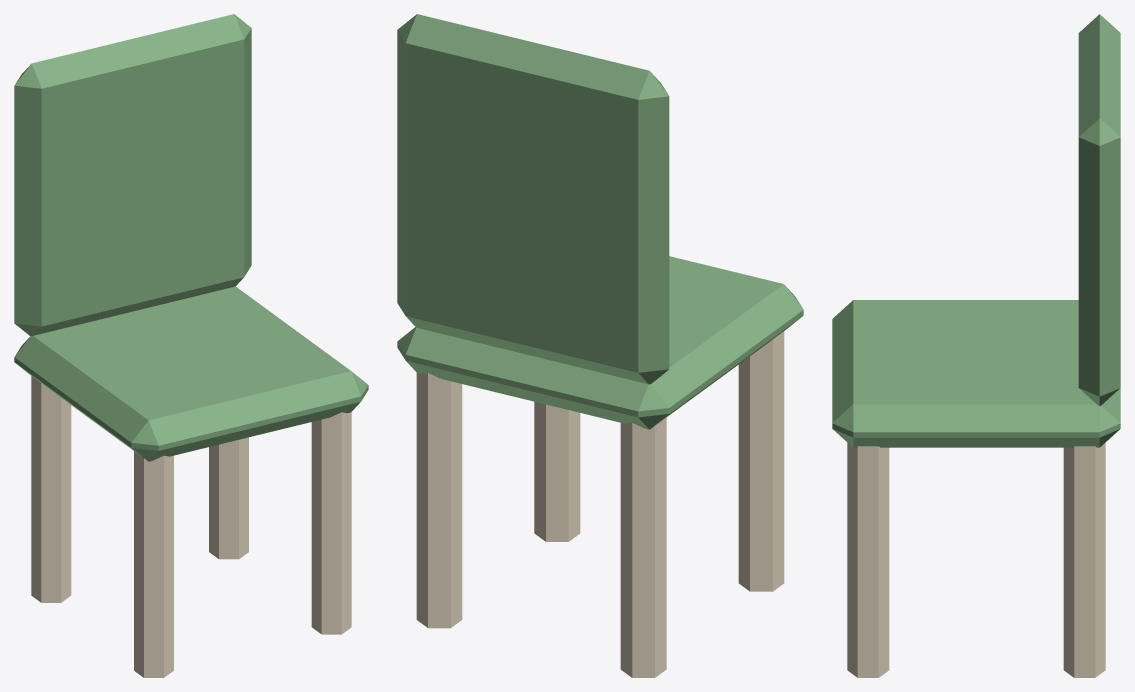
3 renders of one model, left to right at view 1: azimuth 30°, elevation 25°; view 2: azimuth 150°, elevation 25°; view 3: azimuth 270°, elevation 25°, orthographic. The views are drawn at different scales.
Parts seen in each view (by area): view 1: Backrest, Seat, Leg.002, Leg, Leg.001, Leg.003; view 2: Backrest, Seat, Leg.001, Leg.003, Leg, Leg.002; view 3: Seat, Backrest, Leg.002, Leg.003.
Boxes of the visible parts, left/top/right/bottom form: Backrest: left=14, top=14, right=251, bottom=336; Seat: left=14, top=286, right=368, bottom=461; Leg.002: left=311, top=412, right=351, bottom=634; Leg: left=134, top=451, right=173, bottom=677; Leg.001: left=31, top=376, right=71, bottom=602; Leg.003: left=209, top=437, right=248, bottom=559; Backrest: left=397, top=14, right=669, bottom=384; Seat: left=397, top=256, right=803, bottom=429; Leg.001: left=620, top=417, right=666, bottom=677; Leg.003: left=416, top=373, right=462, bottom=628; Leg: left=738, top=331, right=784, bottom=591; Leg.002: left=534, top=401, right=580, bottom=541; Seat: left=832, top=300, right=1120, bottom=447; Backrest: left=1078, top=14, right=1120, bottom=405; Leg.002: left=847, top=443, right=889, bottom=677; Leg.003: left=1063, top=443, right=1105, bottom=677.
Bounding box in the file's own units: 0.48 × 1.02 × 0.48.
1 material, 1 textured.
